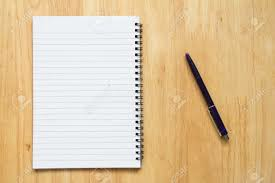pen: (185, 53, 228, 142)
